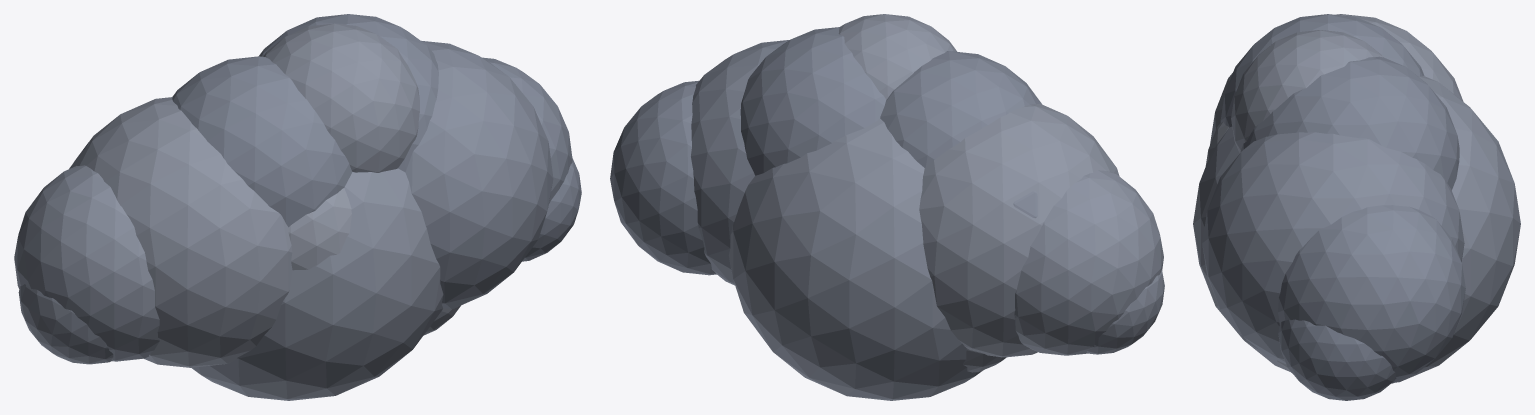
The model's file is cloud.glb.
The picture shows the model from 3 angles, left to right: view 1: azimuth 30°, elevation 25°; view 2: azimuth 150°, elevation 25°; view 3: azimuth 270°, elevation 25°; orthographic projection. The views are drawn at different scales.
Parts seen in each view (by area): view 1: world; view 2: world; view 3: world.
Part boxes in pixels (x1,y1,x2,y2): world: (14,14,581,400); world: (610,14,1164,400); world: (1193,14,1520,400).
Bounding box in the file's own units: 4.59 × 2.91 × 2.5.
